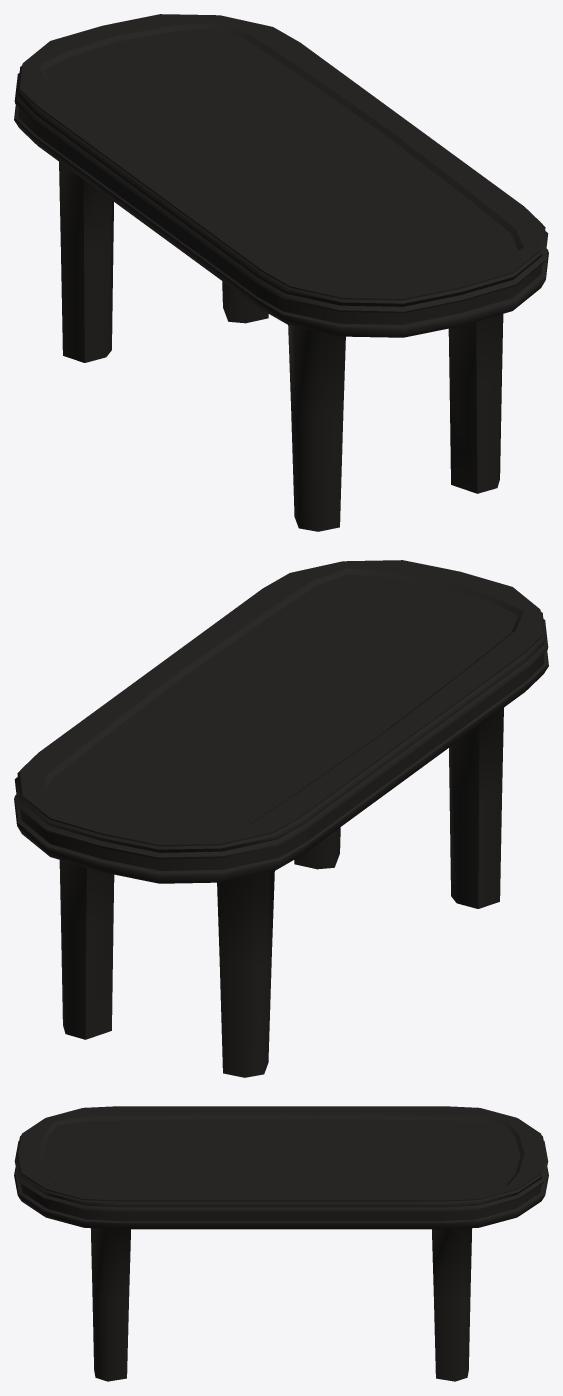
The model's file is long_table.fbx.
3 views of the same model, one above another, from view 1: azimuth 30°, elevation 25°; view 2: azimuth 150°, elevation 25°; view 3: azimuth 270°, elevation 25° (orthographic). The views are drawn at different scales.
Visible parts, largest first — view 1: long_table; view 2: long_table; view 3: long_table.
Part boxes in pixels (x1,y1,x2,y2): long_table: [14, 14, 548, 531]; long_table: [14, 560, 548, 1077]; long_table: [14, 1106, 548, 1381].
Size of the model in its own units: 77.02 by 70.14 by 177.
